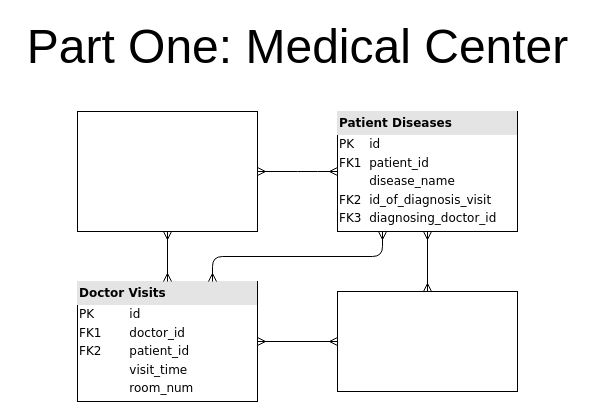
The diagram is 594 pixels wide and 419 high, and some of its shapes have lost their labels. The centre of each missing label's shape, as x and y in pixels:
"Doctors PK id first_name last_name gender office_location" belongs at point (167, 171).
"Patients PK id first_name last_name gender" belongs at point (427, 341).
